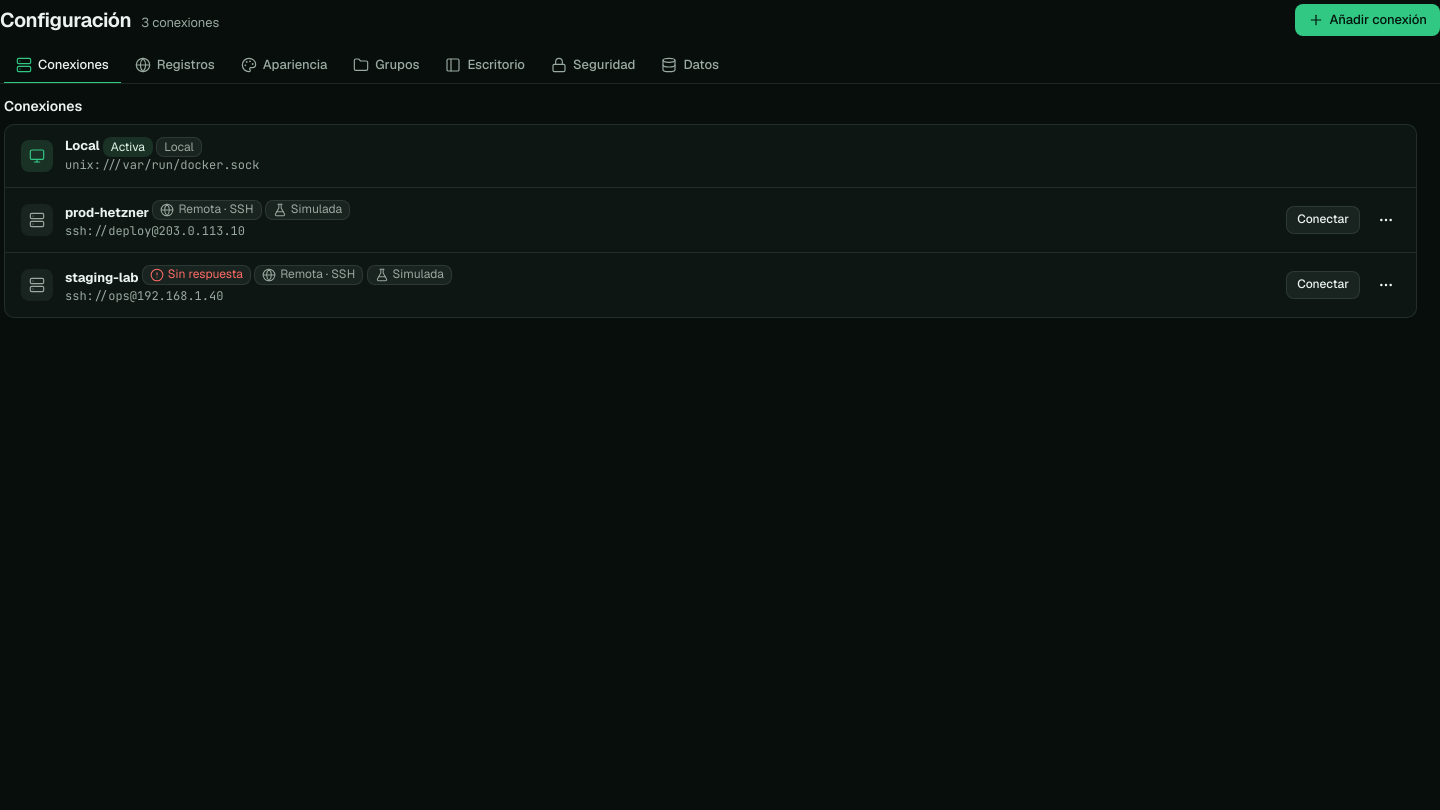
Test: Configuración: conexiones › lista con insignias (Local, Remota·SSH, Simulada); no se elimina la local; eliminar pide confirmar y la quita
This screenshot has width=1440, height=810.
Expected: the text "Activa" is shown, [103,137,153,157]
Expected: the text "Remota · SSH" is shown 2 times, [152,200,262,220]; [254,265,363,285]
Click the button named "Más opciones de prod-hetzner".
click(1386, 220)  # box [1372,206,1400,234]
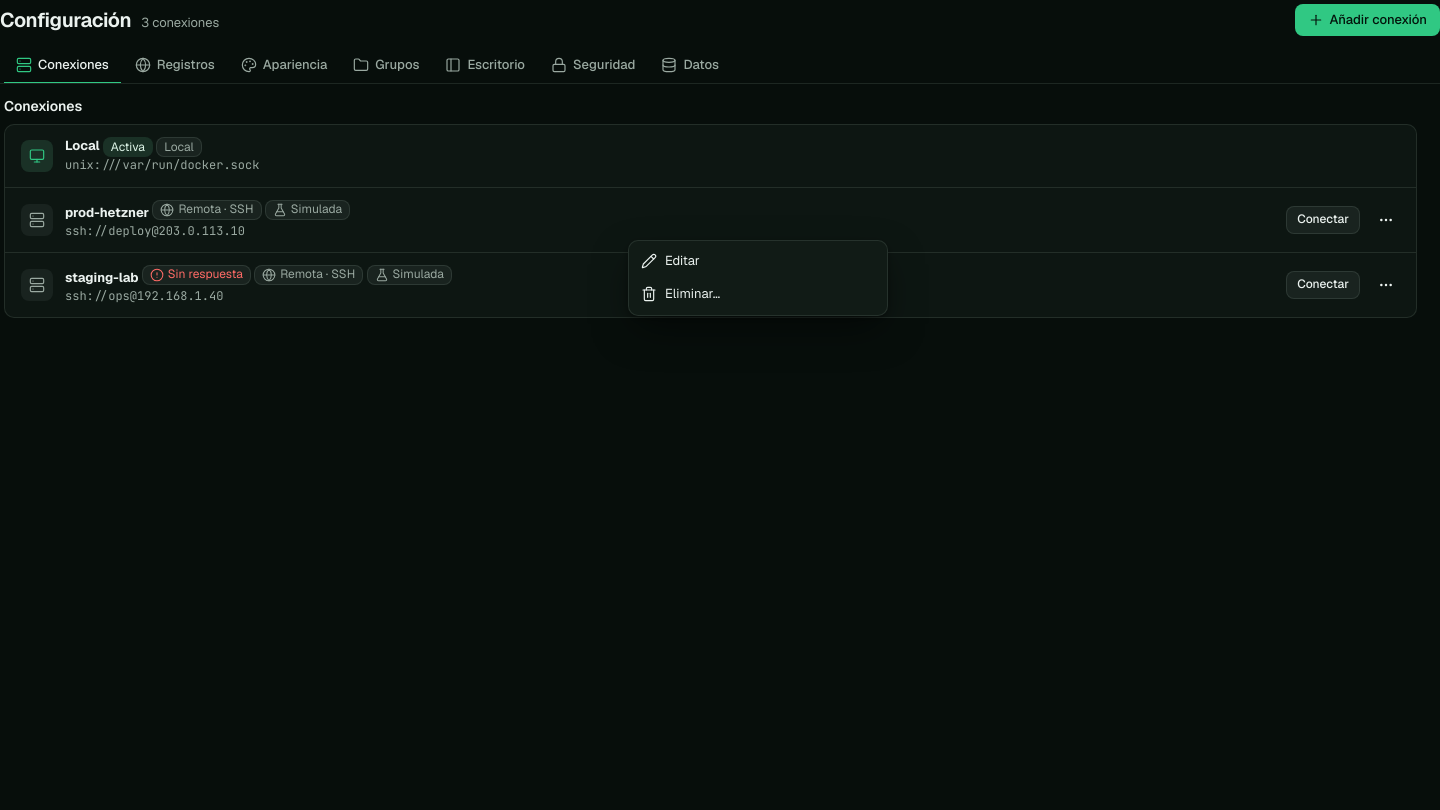
Click the menu item "Eliminar…".
click(681, 294)  # box [641,285,720,302]
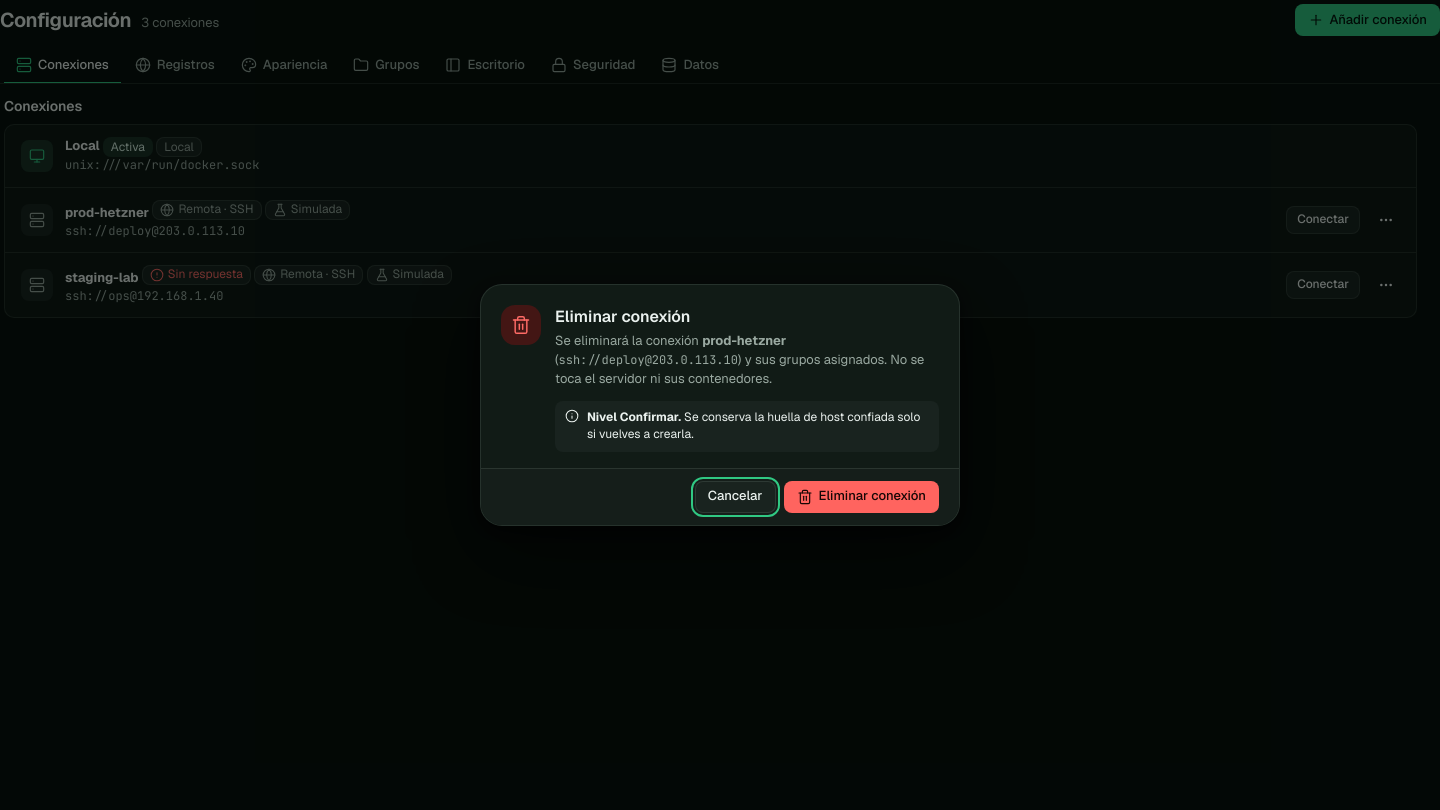
Expected: the heading "Eliminar conexión" is shown, [555,306,690,327]
Click the button "Cancelar".
click(735, 497)  # box [695,481,776,513]
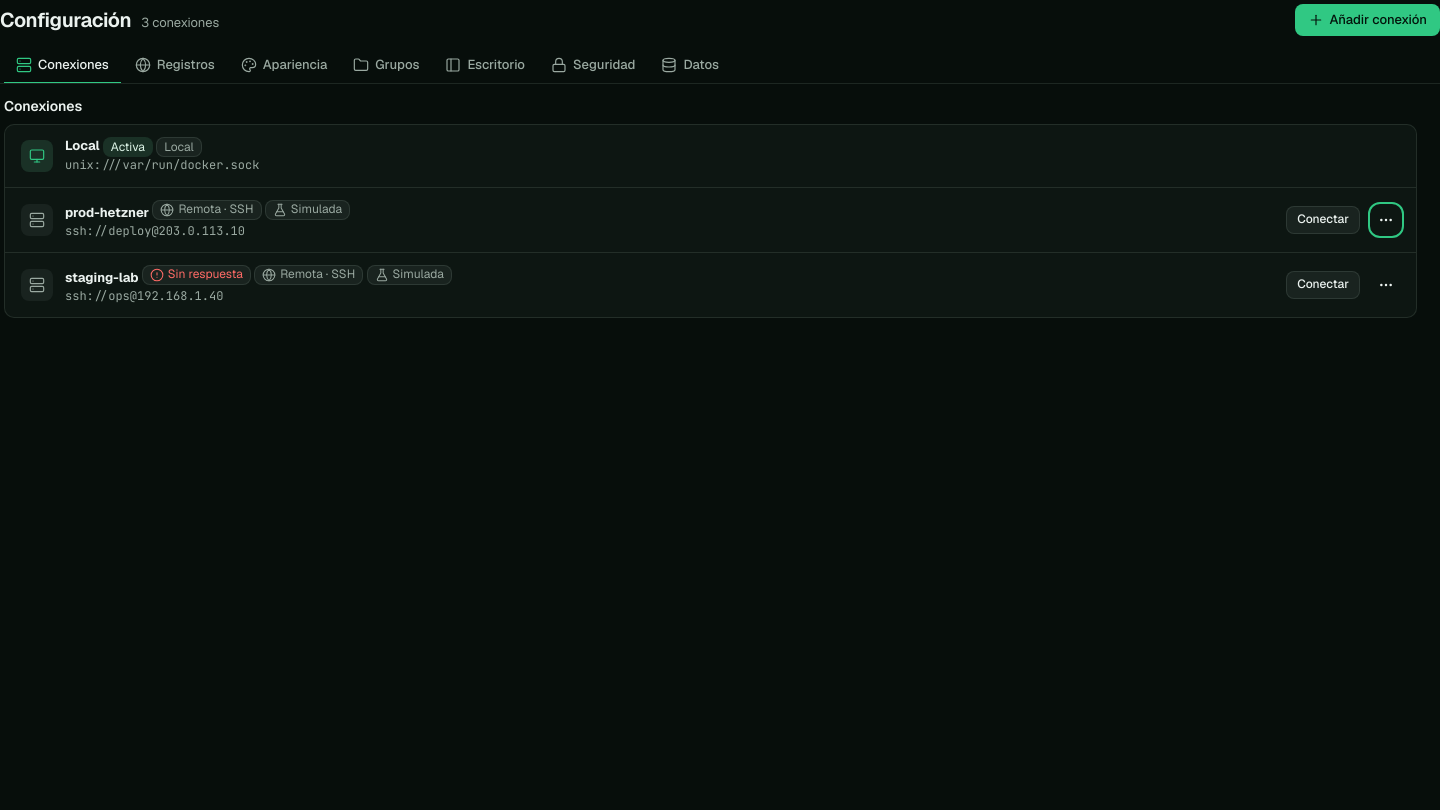
Click the button named "Más opciones de prod-hetzner".
click(1386, 220)  # box [1372,206,1400,234]
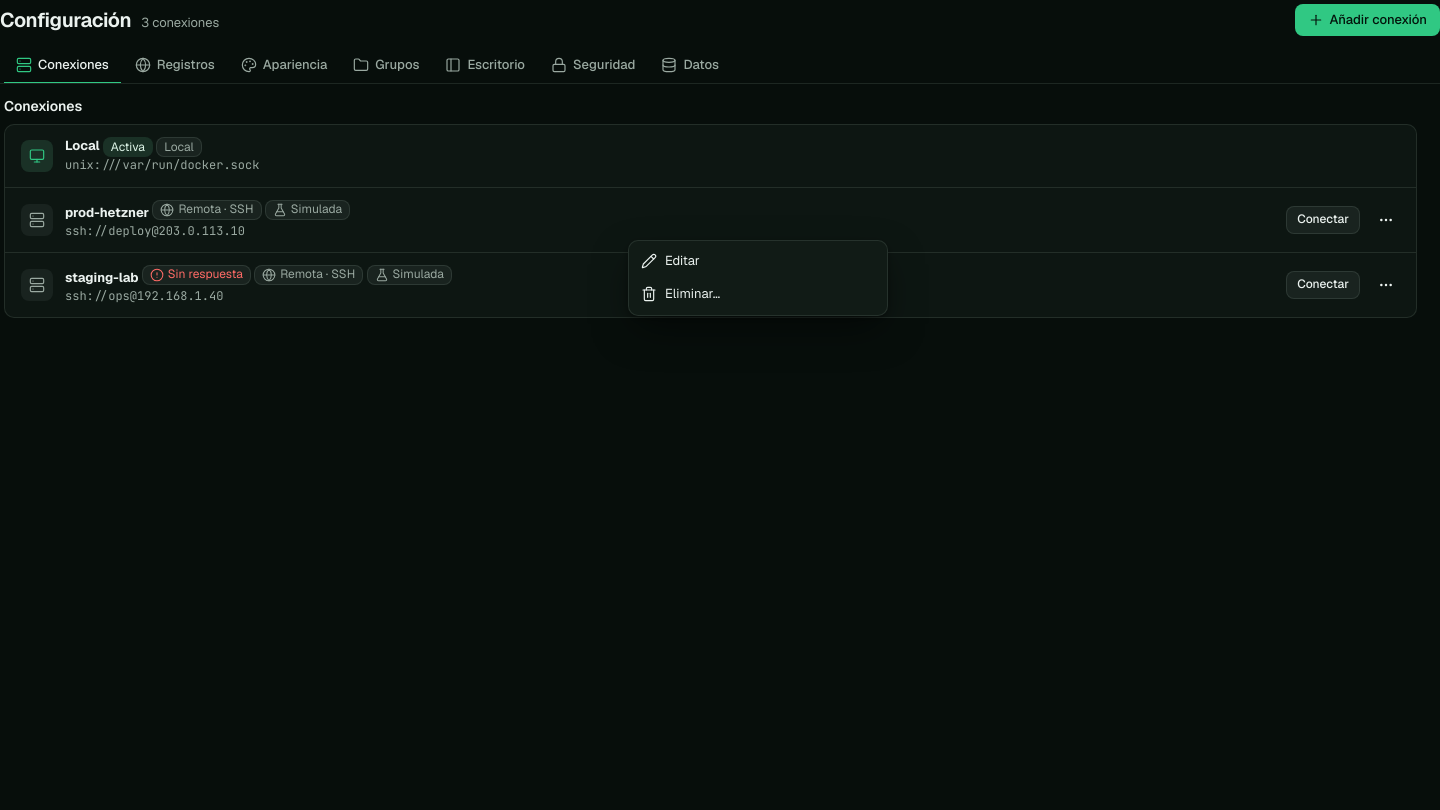
Click the menu item "Eliminar…".
click(681, 294)  # box [641,285,720,302]
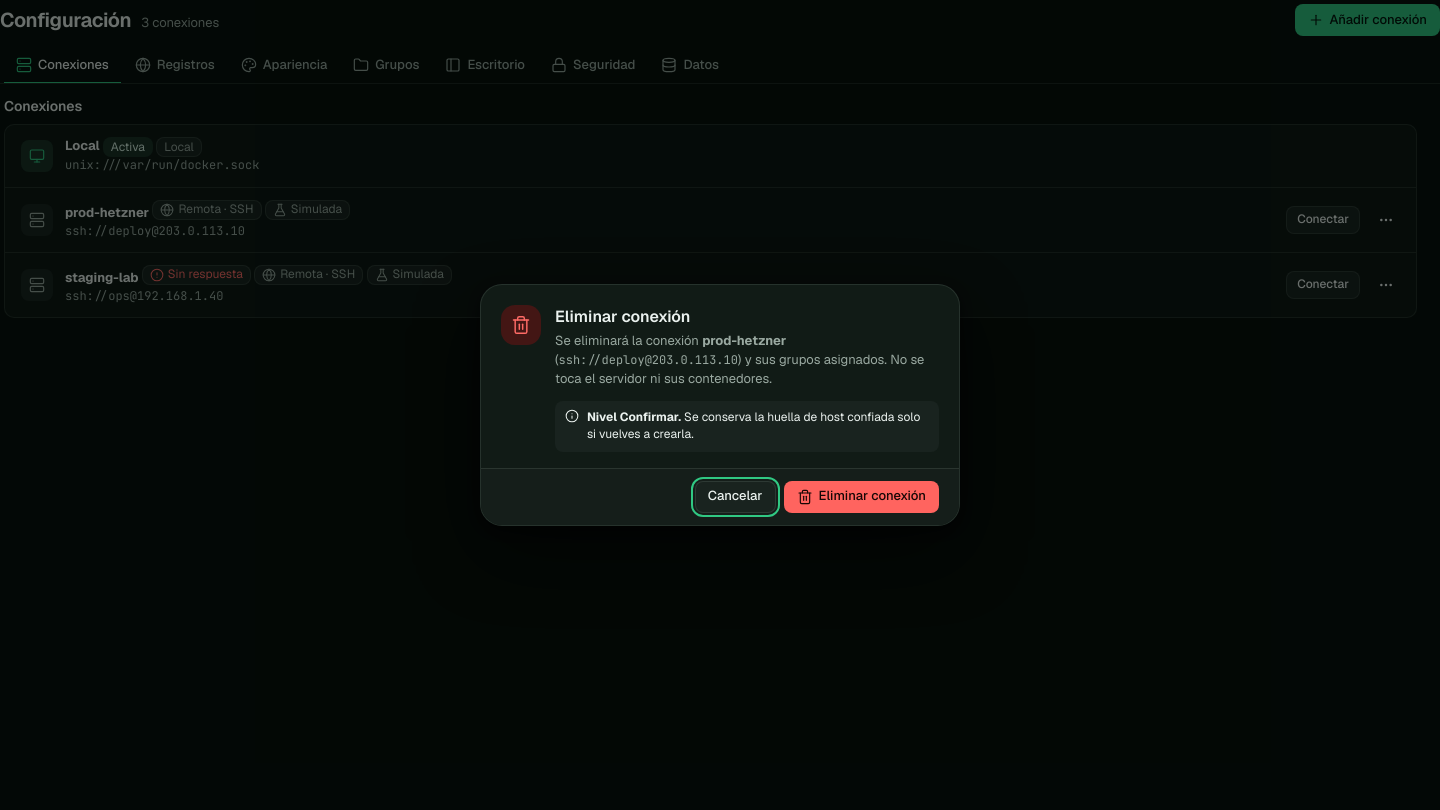
Click the button "Eliminar conexión".
click(861, 497)  # box [784,481,939,513]
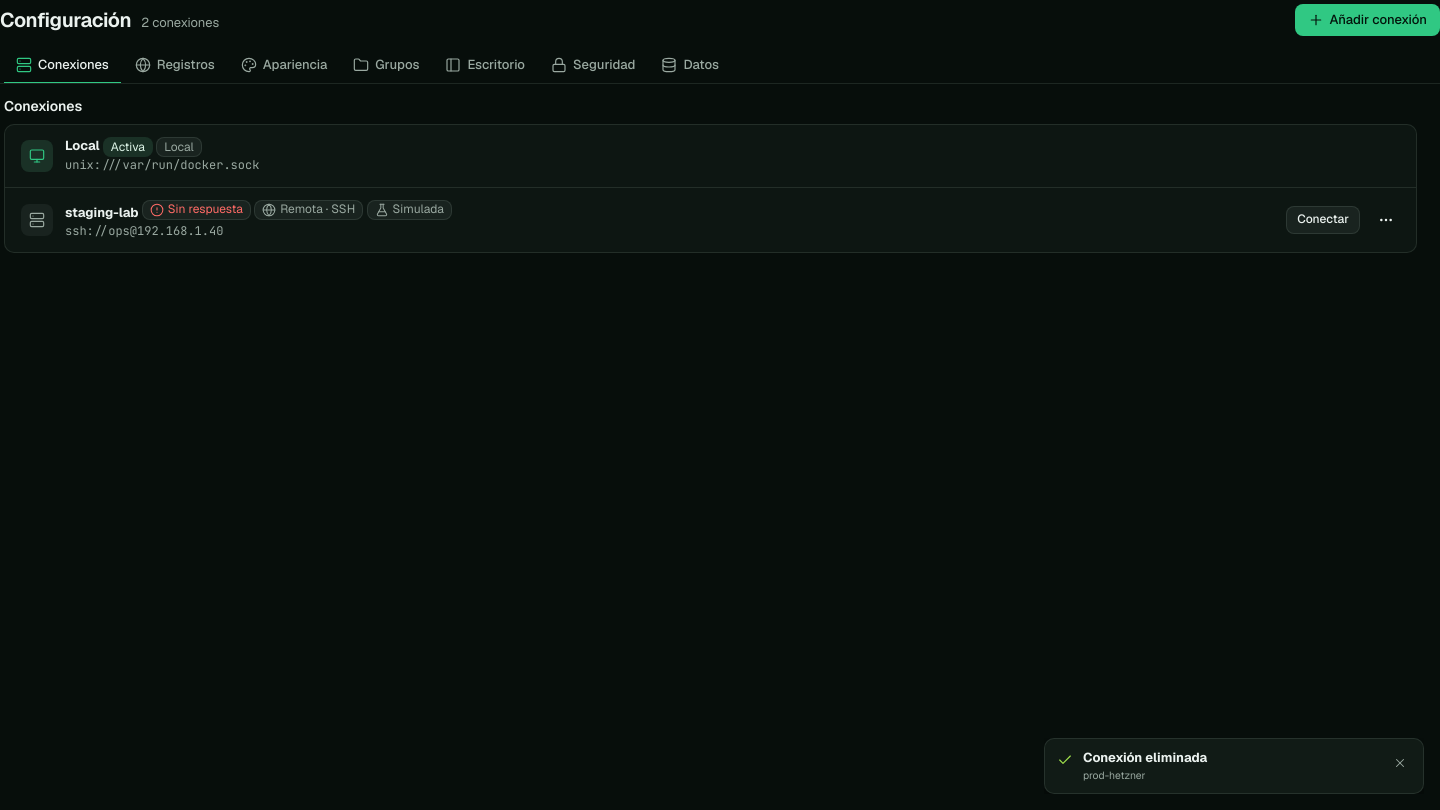
Expected: the button "Más opciones de prod-hetzner" is gone
